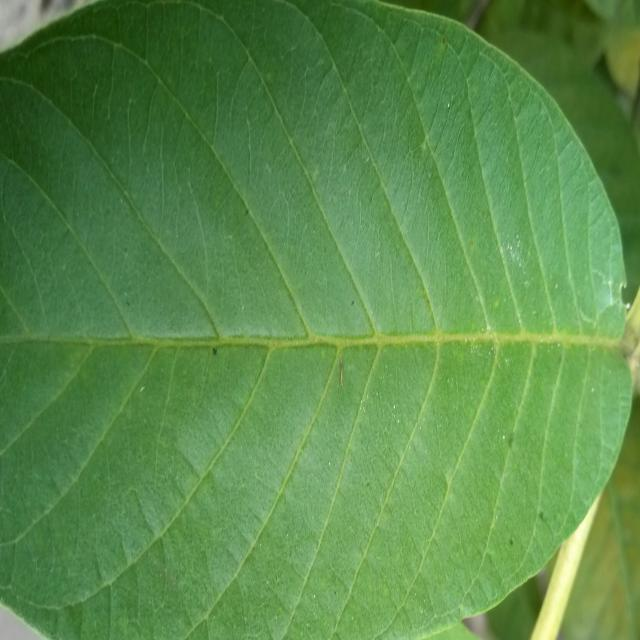Disease Free: (0, 2, 631, 637)
